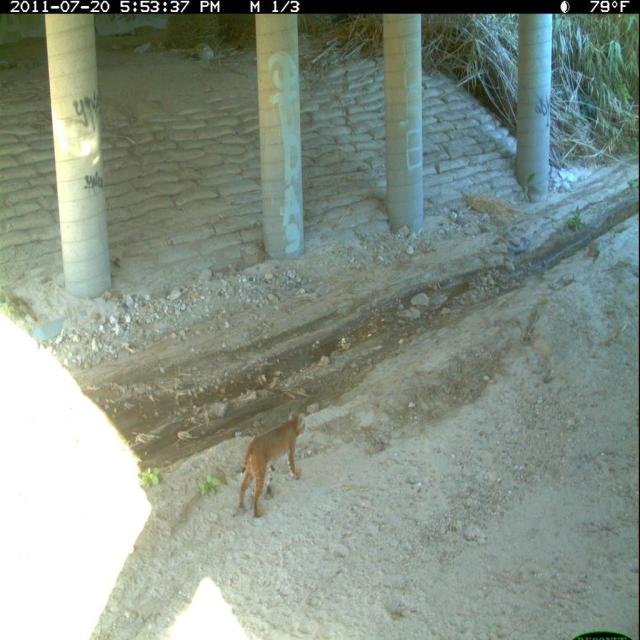bobcat: (236, 403, 310, 520)
